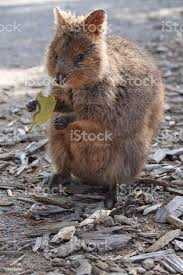quokka: (39, 2, 164, 215)
